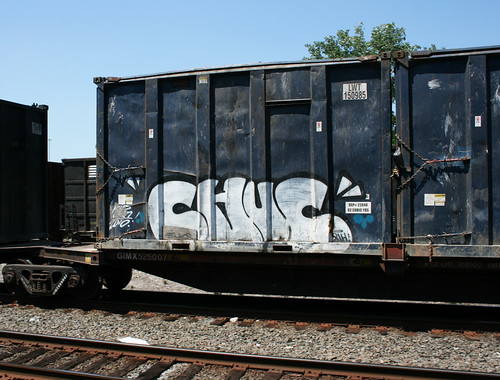graffiti: (132, 160, 375, 256)
sky: (1, 1, 492, 65)
train: (1, 51, 499, 309)
train track: (2, 322, 500, 380)
